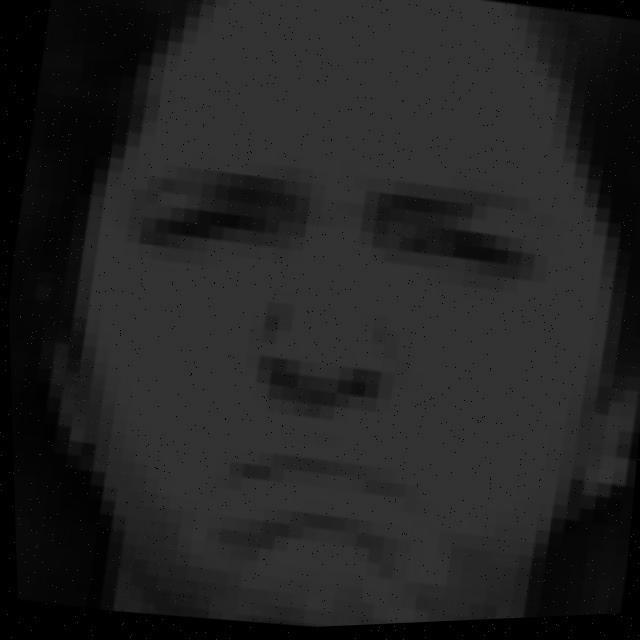Disgust: (53, 46, 640, 635)
